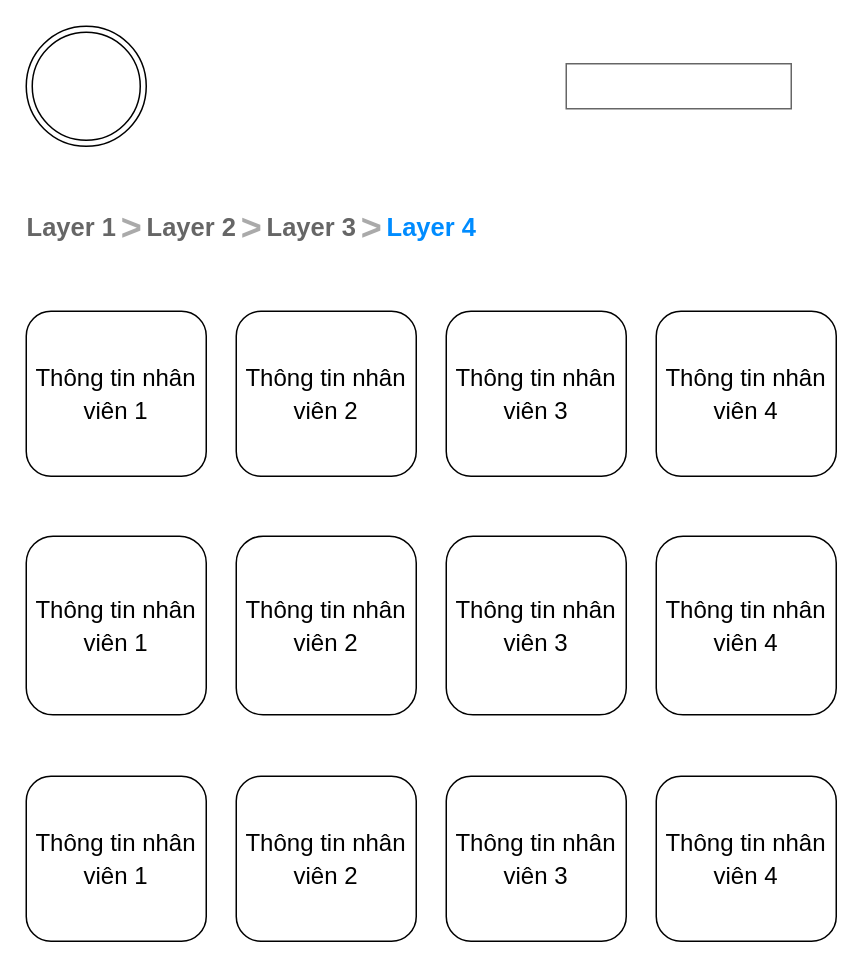
Image size: 863x968. Some labels were removed from this diagram. Each missing label, with the centre of its shape:
Logo: (x=85, y=85)
search: (x=678, y=85)
